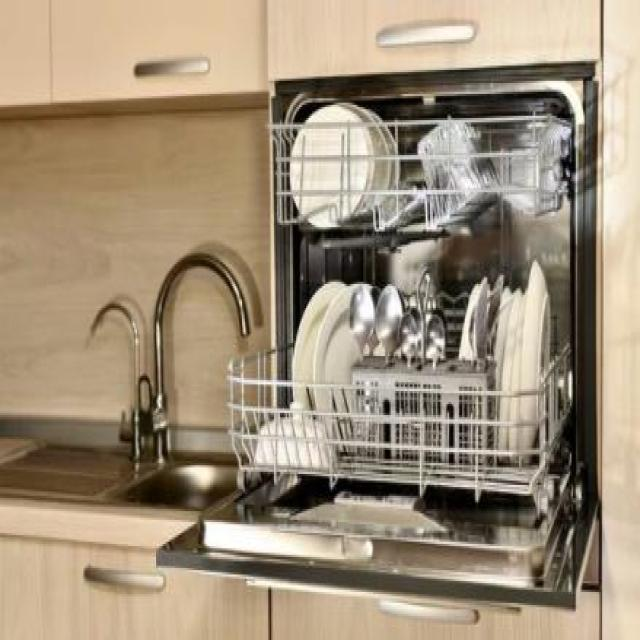dishwasher: (156, 74, 593, 601)
